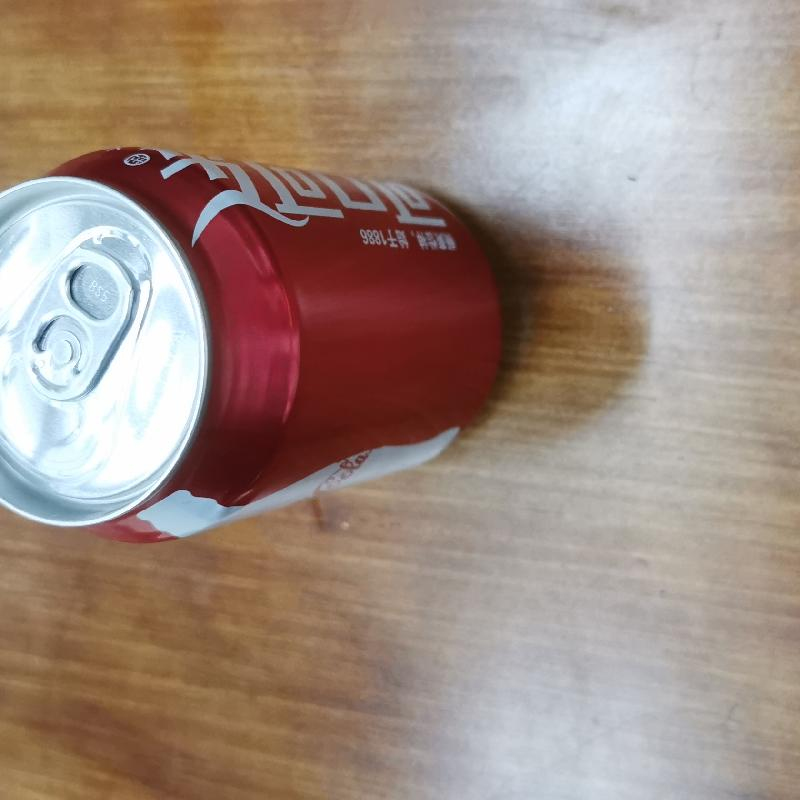cans: (5, 129, 504, 545)
